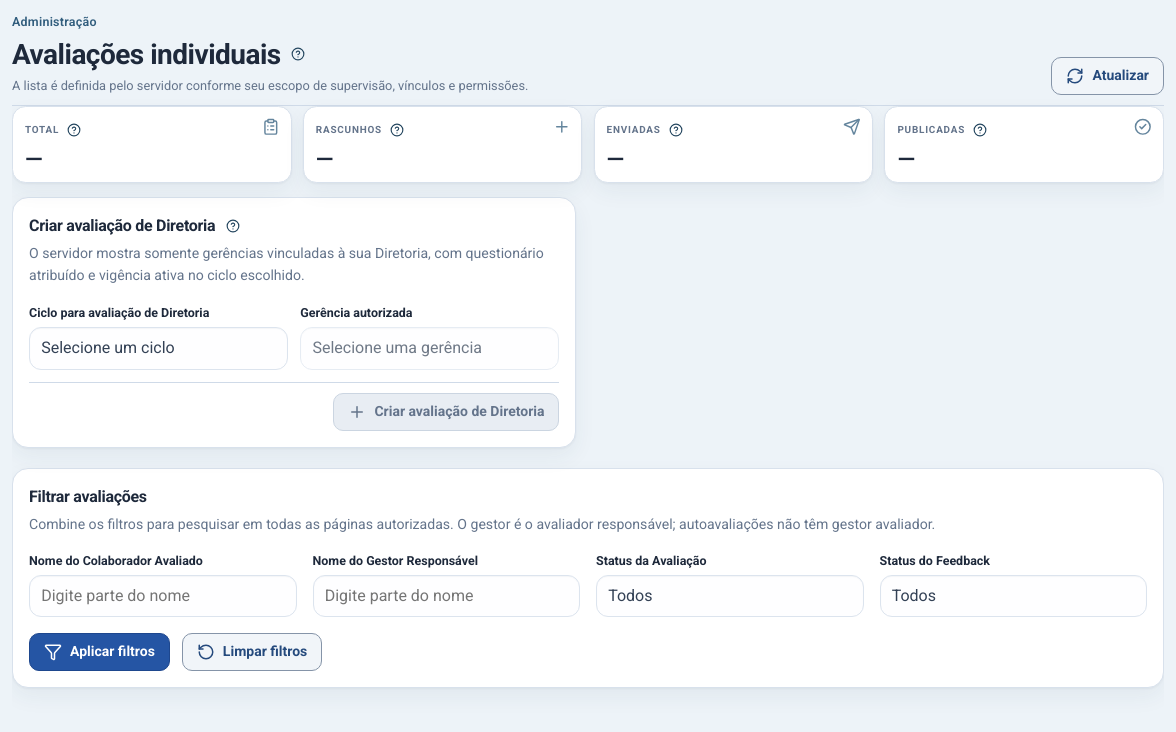
Test: Opções para iniciar avaliações › Diretoria: Atualizar consulta novamente as pessoas e os ciclos
Step 1. Select "Ciclo atual fictício" in the dropdown labelled "Ciclo para avaliação de Diretoria" → (159,348), box [29,327,288,370]
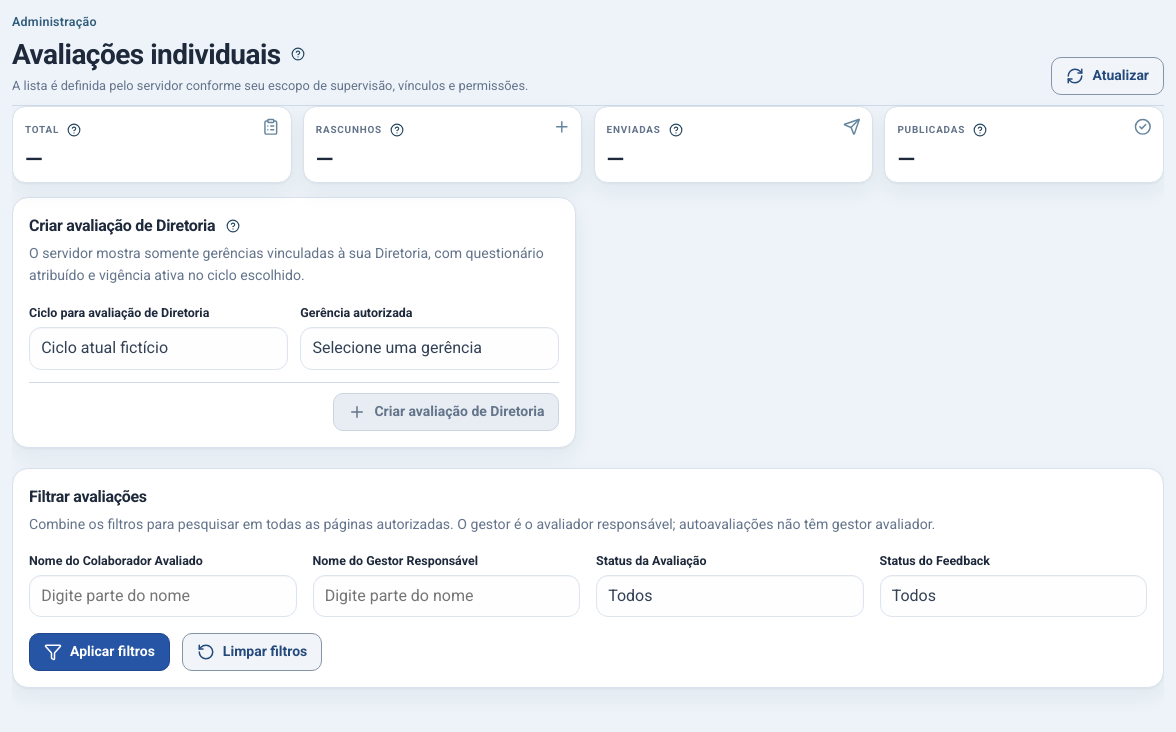
Step 2. Select "Pessoa fictícia A" in the dropdown labelled "Gerência autorizada" → (430,348), box [300,327,560,370]
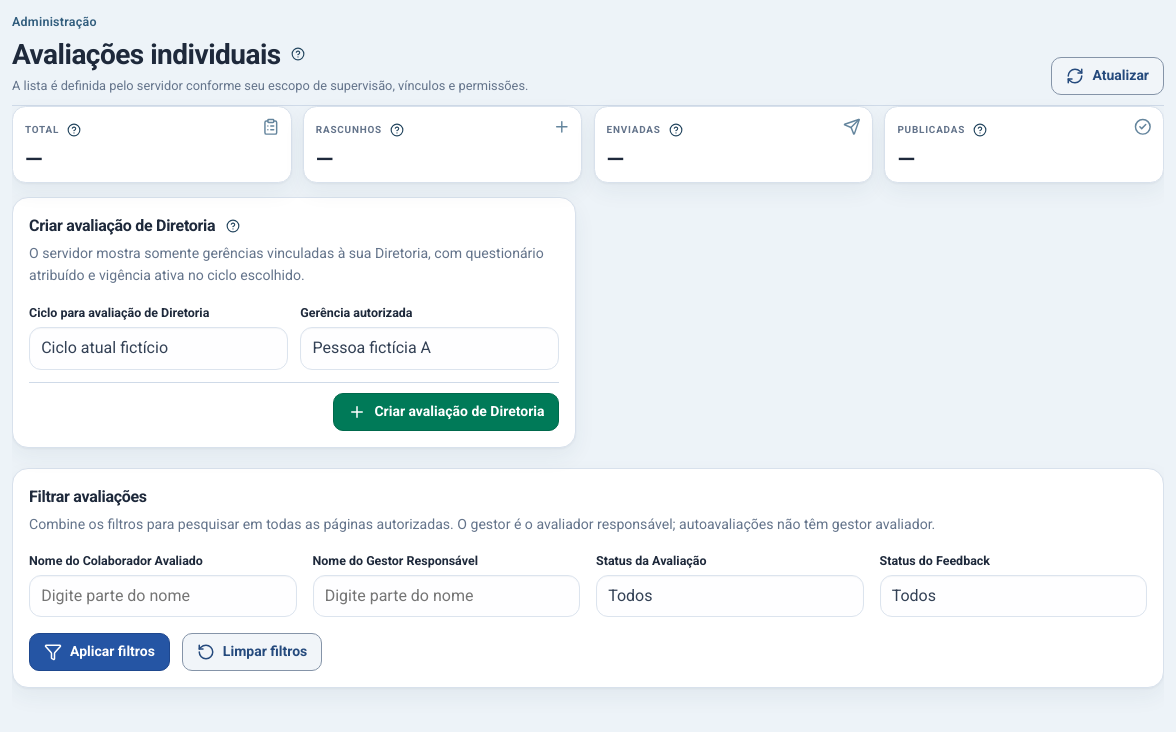
Step 3. Click the button "Atualizar" → (1108,76), box [1052,57,1164,95]
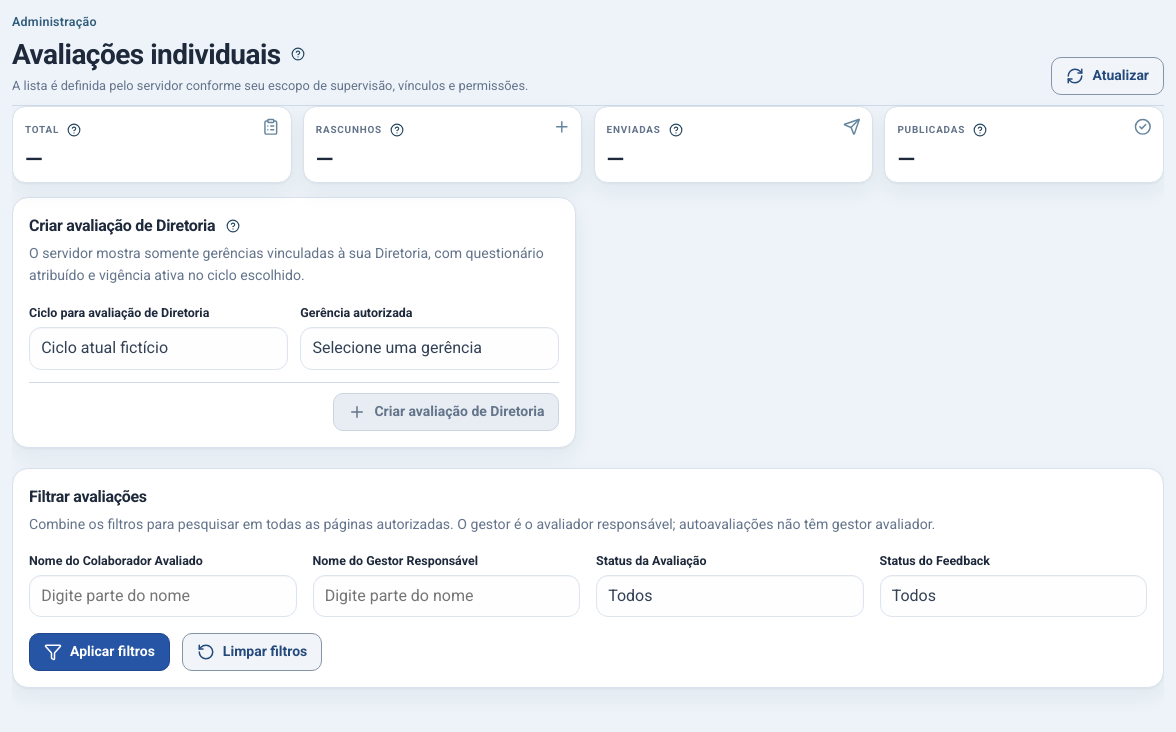
Check: the option "Pessoa fictícia A" is not shown
Check: the dropdown labelled "Gerência autorizada" is enabled, box [300,327,560,370]
Check: the dropdown labelled "Gerência autorizada" shows "Selecione uma gerência", box [300,327,560,370]
